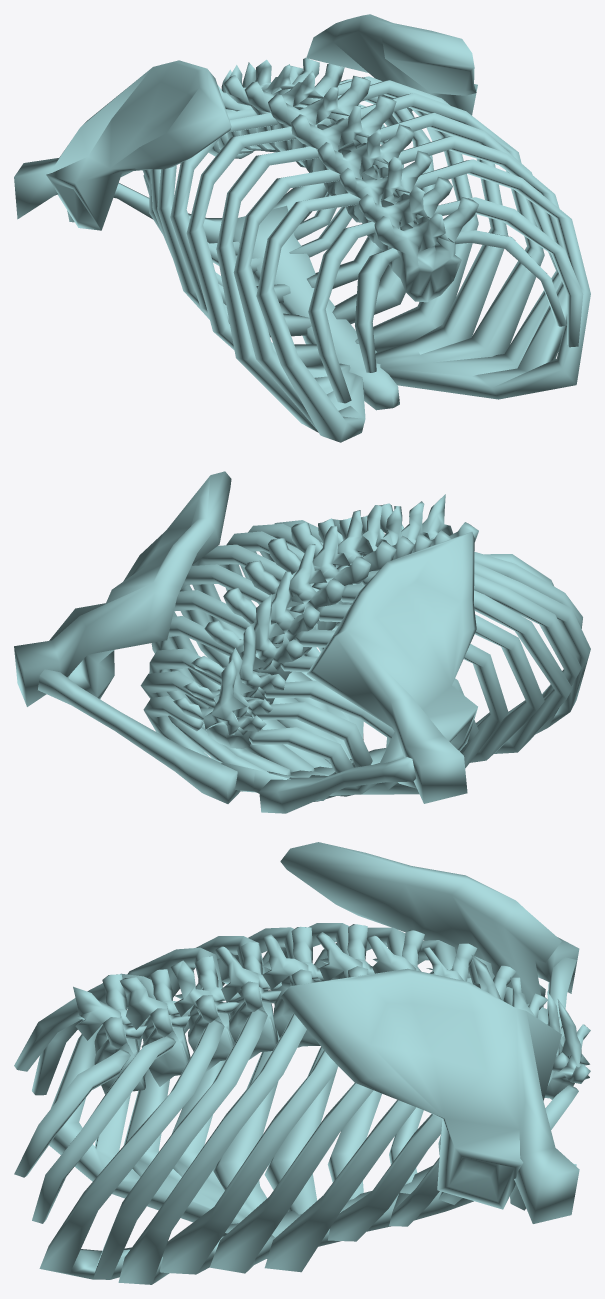
The model's file is skelly_thoracic_spine.fbx.
3 renders of one model, top to bottom at view 1: azimuth 30°, elevation 25°; view 2: azimuth 150°, elevation 25°; view 3: azimuth 270°, elevation 25°, orthographic. The views are drawn at different scales.
Parts seen in each view (by area): view 1: skelly_thoracic_spine; view 2: skelly_thoracic_spine; view 3: skelly_thoracic_spine.
Boxes of the visible parts, left/top/right/bottom form: skelly_thoracic_spine: left=14, top=14, right=590, bottom=442; skelly_thoracic_spine: left=14, top=471, right=590, bottom=813; skelly_thoracic_spine: left=14, top=842, right=590, bottom=1284.
Size of the model in its own units: 38.91 by 24.78 by 37.86.
